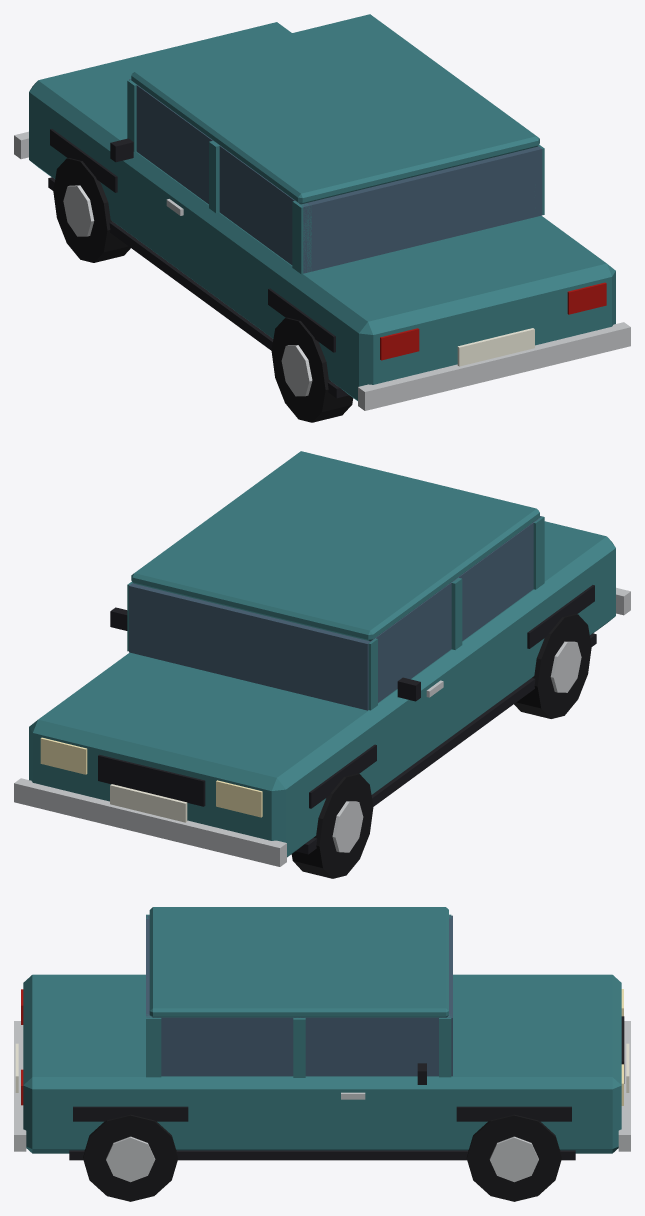
Rendered from car.saloon.glb.
3 renders of one model, top to bottom at view 1: azimuth 30°, elevation 25°; view 2: azimuth 150°, elevation 25°; view 3: azimuth 270°, elevation 25°, orthographic. The views are drawn at different scales.
Visible parts, largest first — view 1: body, roof, glass, bumper-back, wheel-11, wheel-1-1, sill, plate-back, pillar-c-1, hub-1-1, hub-11, arch-11 (+5 smaller); view 2: body, roof, glass, bumper-front, wheel-1-1, wheel-11, grille, sill, plate-front, headlamp1, headlamp-1, hub-1-1 (+6 smaller); view 3: body, roof, glass, wheel1-1, wheel11, sill, arch1-1, arch11, hub1-1, hub11, bumper-back, bumper-front (+3 smaller).
Boxes of the visible parts, x1,y1,x2,y2 form: body: [29, 22, 615, 400]; roof: [131, 14, 539, 204]; glass: [129, 79, 542, 273]; bumper-back: [358, 322, 630, 410]; wheel-11: [271, 317, 353, 422]; wheel-1-1: [53, 158, 130, 262]; sill: [48, 177, 348, 398]; plate-back: [457, 328, 534, 366]; pillar-c-1: [292, 200, 311, 274]; hub-1-1: [63, 185, 94, 236]; hub-11: [281, 345, 312, 396]; arch-11: [268, 288, 335, 352]; body: [29, 521, 615, 857]; roof: [131, 451, 539, 641]; glass: [129, 516, 541, 710]; bumper-front: [14, 778, 286, 866]; wheel-1-1: [291, 773, 373, 878]; wheel-11: [514, 614, 591, 718]; grille: [98, 754, 205, 806]; sill: [296, 633, 596, 854]; plate-front: [110, 784, 187, 822]; headlamp1: [40, 737, 87, 774]; headlamp-1: [216, 780, 262, 817]; hub-1-1: [332, 801, 363, 852]; body: [23, 974, 621, 1153]; roof: [149, 907, 448, 1017]; glass: [146, 915, 452, 1076]; wheel1-1: [466, 1114, 561, 1201]; wheel11: [83, 1114, 178, 1201]; sill: [69, 1150, 575, 1160]; arch1-1: [456, 1106, 571, 1121]; arch11: [73, 1106, 188, 1121]; hub1-1: [489, 1136, 538, 1182]; hub11: [106, 1136, 155, 1182]; bumper-back: [14, 1021, 26, 1151]; bumper-front: [618, 1021, 630, 1151].
Bounding box in the file's own units: 2.02 × 1.34 × 4.02.
